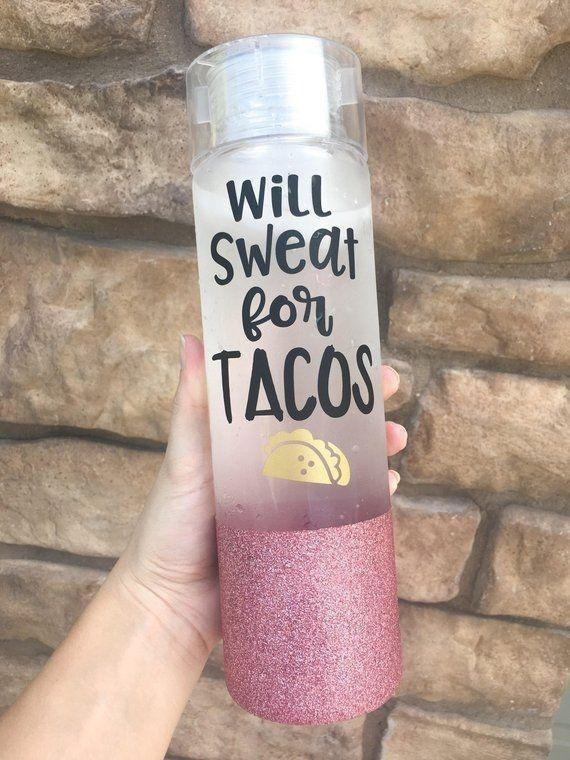gym bottle: (182, 34, 401, 725)
